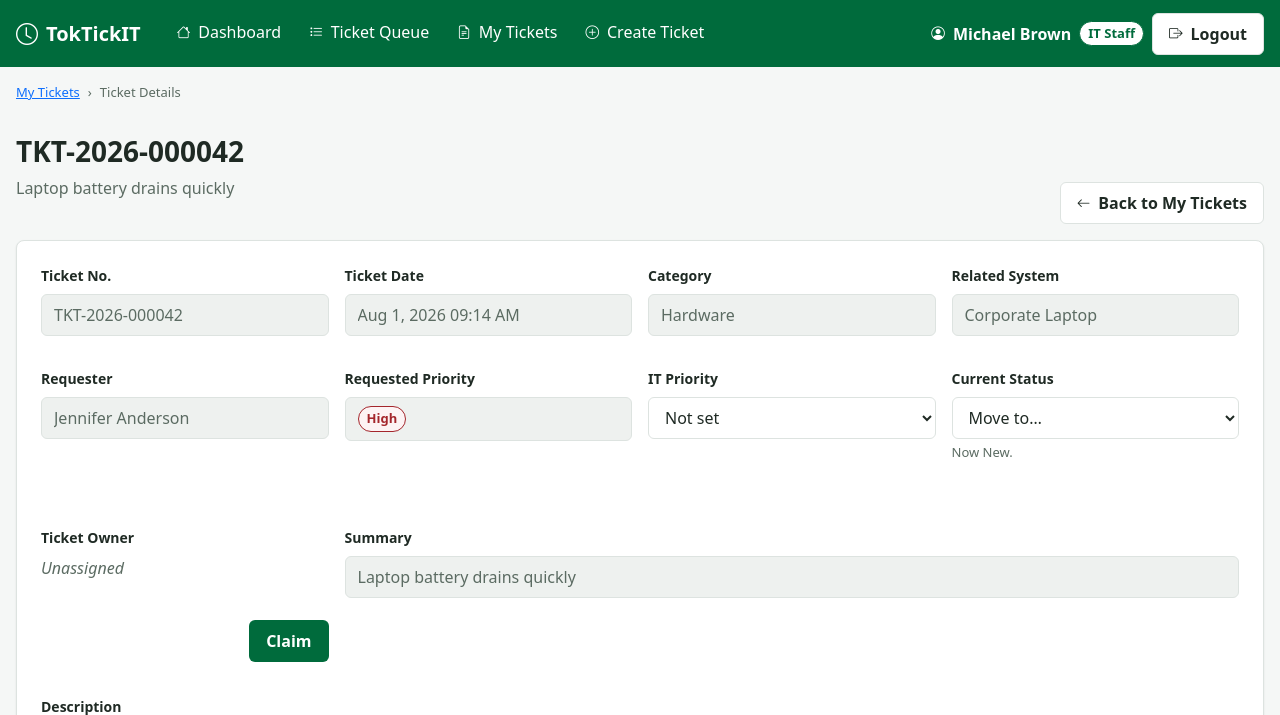
Scenario: UI-15 claim, reassign and release › offers Claim on an unassigned ticket, and sends the signed-in staff member's id
The width and height of the screenshot is (1280, 715).
Expected: the text "Unassigned" is shown, [41, 557, 124, 579]
Click the button "Claim" at (289, 641), box [249, 620, 328, 662]
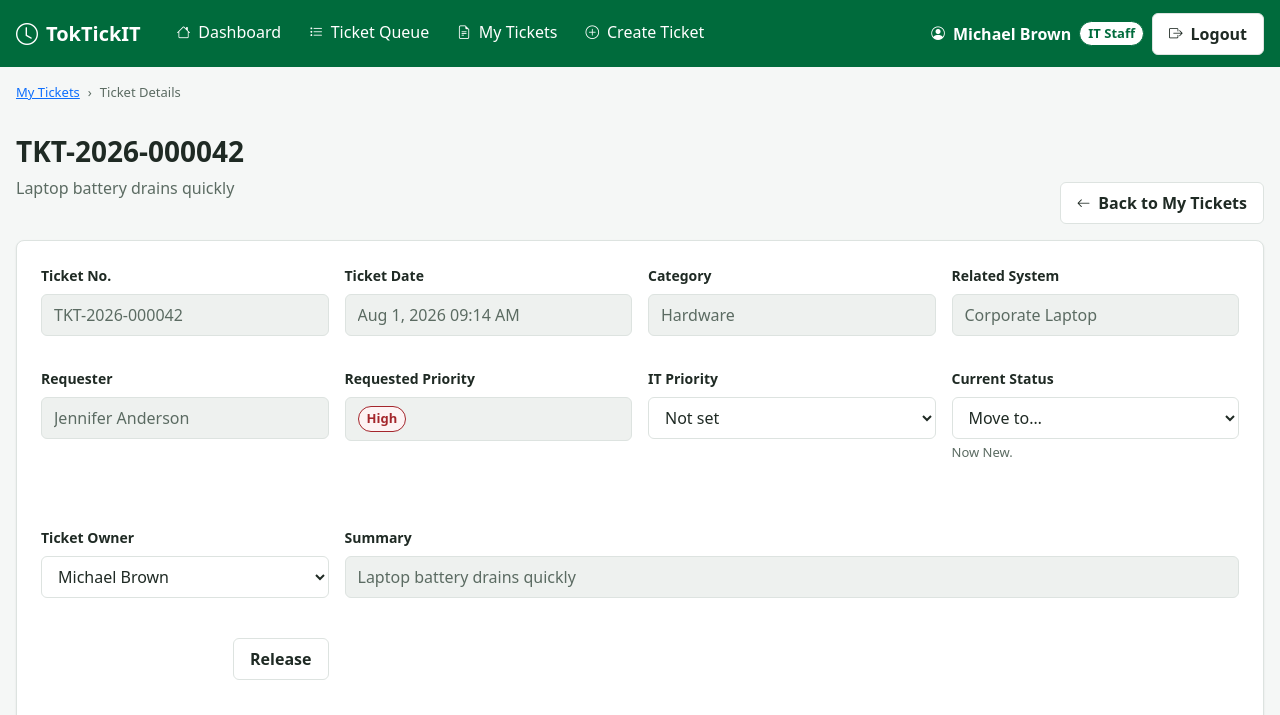
Now the dropdown labelled "Ticket Owner" shows "Michael Brown", box [41, 556, 328, 598]
